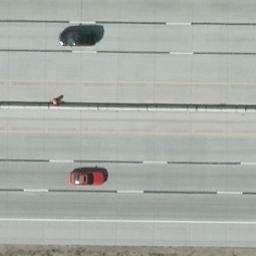car: (57, 27, 99, 50), (69, 167, 110, 187)
